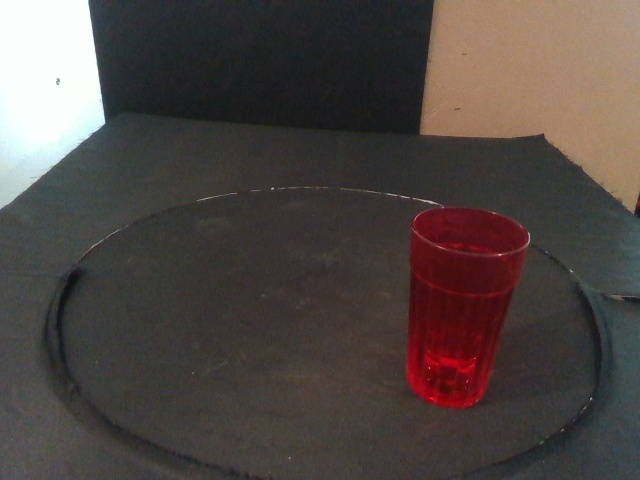glass: (406, 206, 532, 409)
